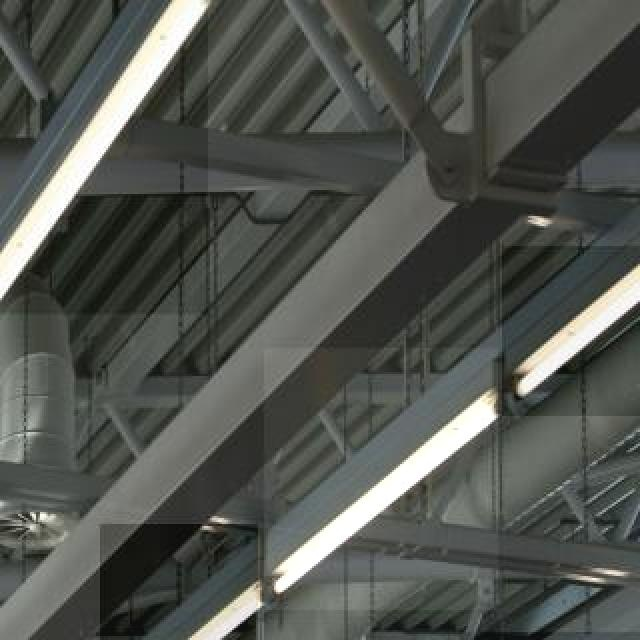fluorescent tube: (0, 0, 226, 322), (271, 379, 525, 617), (503, 252, 640, 412), (98, 560, 284, 640), (452, 628, 640, 640)
